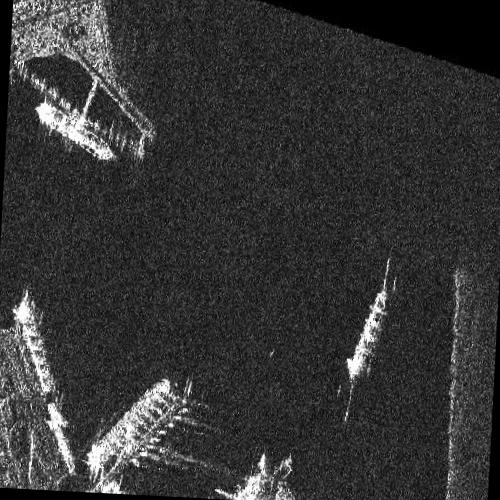ship: (84, 378, 172, 473), (33, 100, 116, 161), (12, 295, 53, 398), (346, 288, 387, 379), (44, 401, 76, 477)
